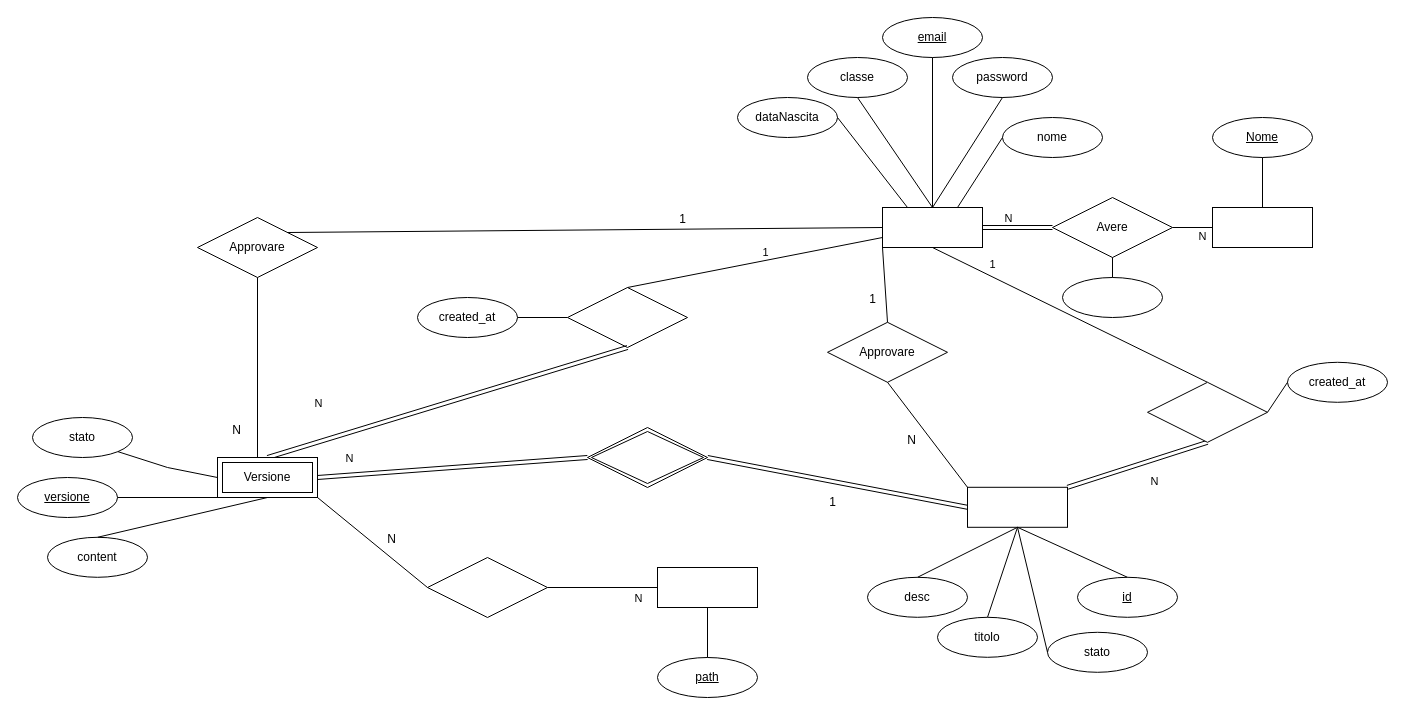
This 1405x715 diagram has some shape labels left out. The shapes that lost their labels are listed below. From the top down, each one's centre as x and y in pixels, then its label:
point 932,227: Utente
point 1262,227: Ruolo
point 627,317: Crea
point 1112,297: confirmed
point 1207,411: Scrivere
point 647,457: Appartenere
point 1017,506: Contenuti
point 487,587: Contenere
point 707,587: Immagini
